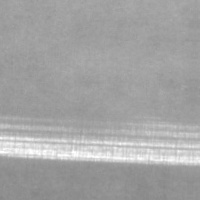scratches: (0, 128, 191, 164)
